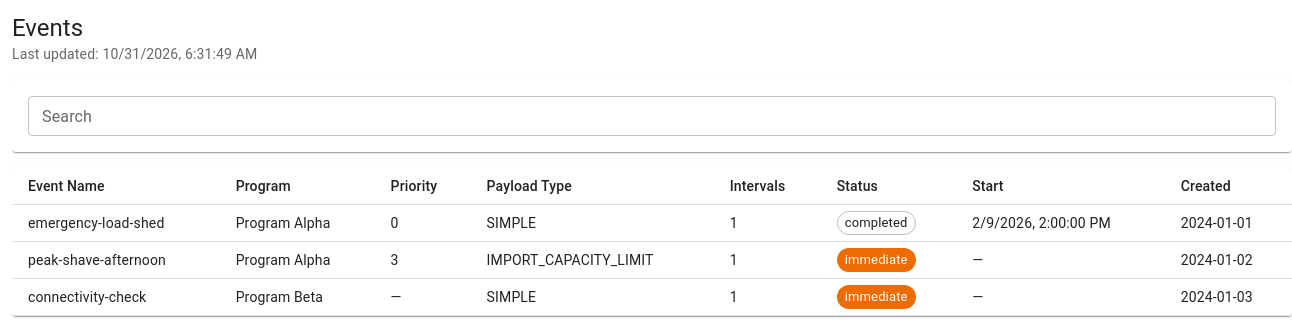
Test: EventsPage › filters events by search query
The image size is (1292, 335).
Type "emergency" into the field with test id "events-search" at (652, 116), box [28,96,1276,136]
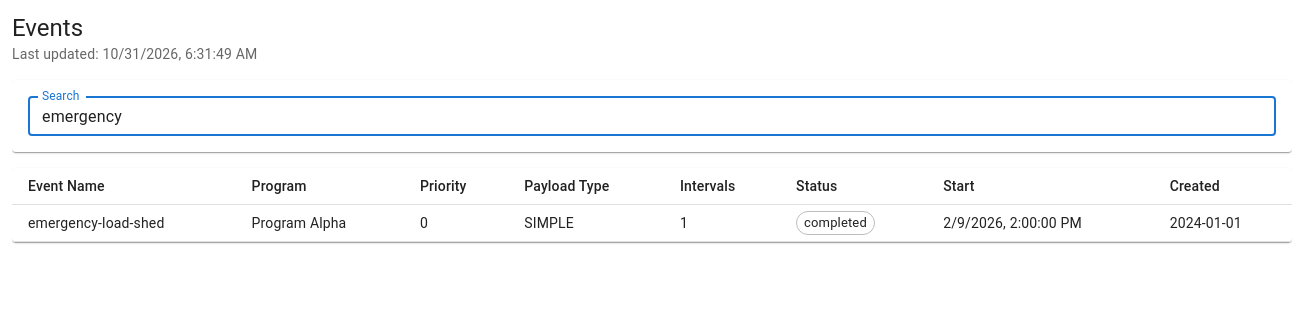
Expected: the row with test id "event-row-e1" is shown, [12,204,1291,242]
Now the row with test id "event-row-e2" is gone
Now the row with test id "event-row-e3" is gone
